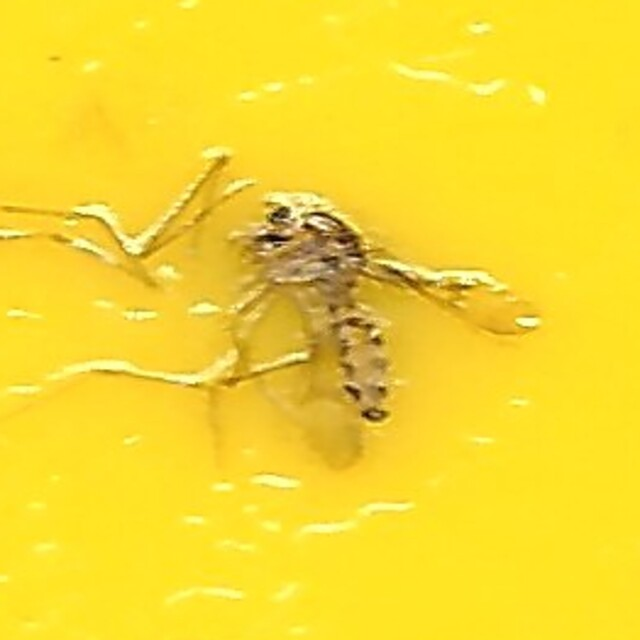Nematocera: (244, 206, 396, 434)
